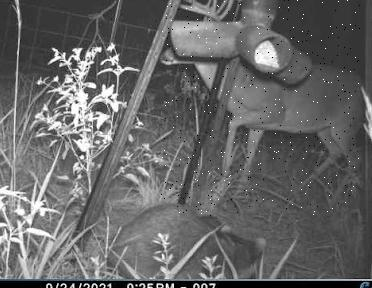Deer: (161, 0, 360, 216)
